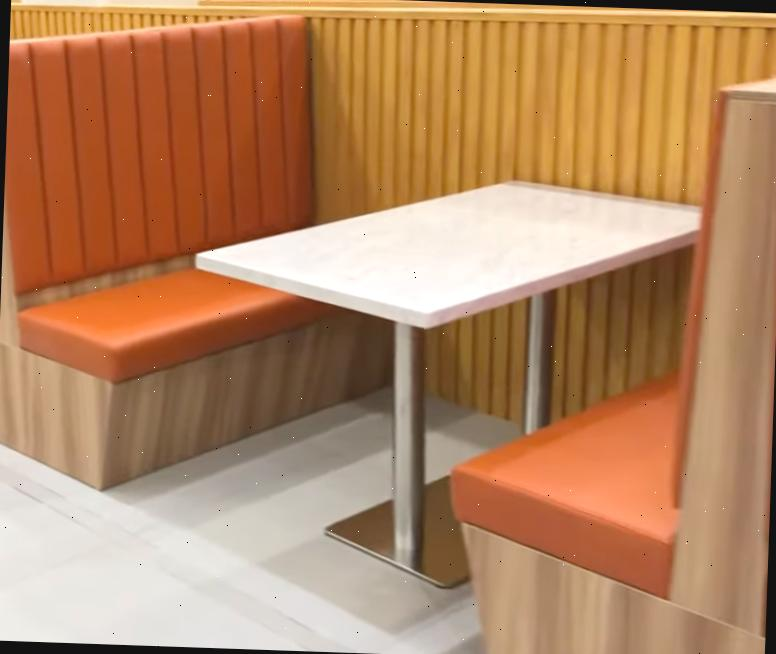Clean Table: (170, 117, 712, 370)
